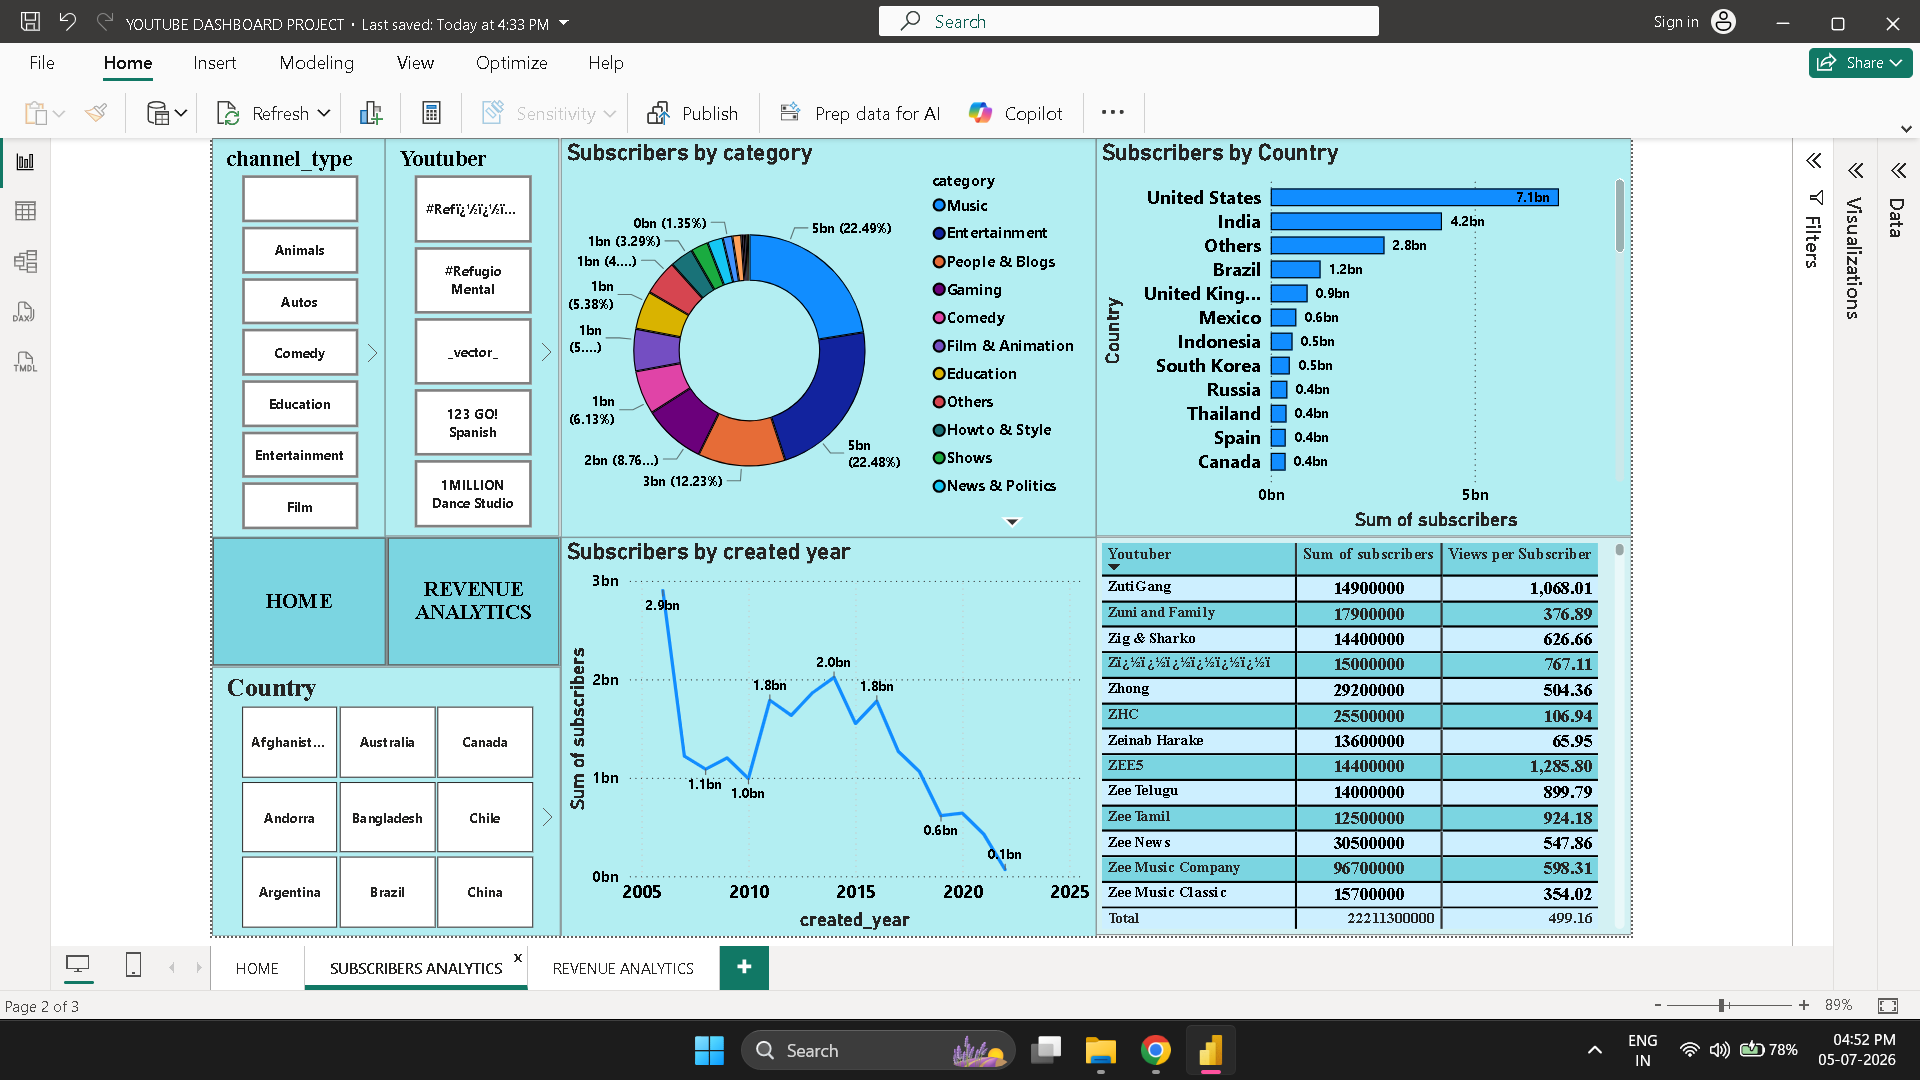

The page's visual inventory and layout, read from the dashboard file:
{"tool":"powerbi","page":{"name":"SUBSCRIBERS ANALYTICS","canvas":[1280,720],"ordinal":1},"visuals":[{"type":"donutChart","title":" Subscribers by category","fields":{"Category":["Cleaned_YouTube_Stats.category"],"Y":["Sum(Cleaned_YouTube_Stats.subscribers)"]},"box":[314.3,0,483,360.7],"z":0},{"type":"clusteredBarChart","title":"Subscribers by Country","fields":{"Category":["Cleaned_YouTube_Stats.Country"],"Y":["Sum(Cleaned_YouTube_Stats.subscribers)"]},"box":[797.3,0,483,359.5],"z":1000},{"type":"lineChart","title":" Subscribers by created year","fields":{"Category":["Cleaned_YouTube_Stats.created_year"],"Y":["Sum(Cleaned_YouTube_Stats.subscribers)"]},"box":[314.3,359.5,483,360.7],"z":2000},{"type":"pivotTable","fields":{"Rows":["Cleaned_YouTube_Stats.Youtuber"],"Values":["Sum(Cleaned_YouTube_Stats.subscribers)","Cleaned_YouTube_Stats.Views per Subscriber"]},"box":[797.3,359.5,483,359.5],"z":3000},{"type":"slicer","fields":{"Values":["Cleaned_YouTube_Stats.channel_type"]},"box":[0,0,156.6,361],"z":4000},{"type":"slicer","fields":{"Values":["Cleaned_YouTube_Stats.Youtuber"]},"box":[155.3,0,157.9,359.2],"z":5000},{"type":"actionButton","box":[157.9,359.2,156.6,117.1],"z":6000},{"type":"actionButton","box":[0,359.2,157.9,117.1],"z":7000},{"type":"slicer","fields":{"Values":["Cleaned_YouTube_Stats.Country"]},"box":[0,476.3,314.5,243.4],"z":8000}]}

Visuals, with their boxes on the page's 1280x720 design canvas (x1, y1, x2, y2). These are canvas units, not pixel positions in the 1920x1080 screenshot, which may show the page scaled, cropped or inside an application window:
" Subscribers by category" donutChart: pyautogui.locateOnScreen(314, 0, 797, 361)
"Subscribers by Country" clusteredBarChart: pyautogui.locateOnScreen(797, 0, 1280, 360)
" Subscribers by created year" lineChart: pyautogui.locateOnScreen(314, 360, 797, 720)
pivotTable - Cleaned_YouTube_Stats.Youtuber x Sum(Cleaned_YouTube_Stats.subscribers): pyautogui.locateOnScreen(797, 360, 1280, 719)
slicer - Cleaned_YouTube_Stats.channel_type: pyautogui.locateOnScreen(0, 0, 157, 361)
slicer - Cleaned_YouTube_Stats.Youtuber: pyautogui.locateOnScreen(155, 0, 313, 359)
actionButton: pyautogui.locateOnScreen(158, 359, 314, 476)
actionButton: pyautogui.locateOnScreen(0, 359, 158, 476)
slicer - Cleaned_YouTube_Stats.Country: pyautogui.locateOnScreen(0, 476, 314, 720)
